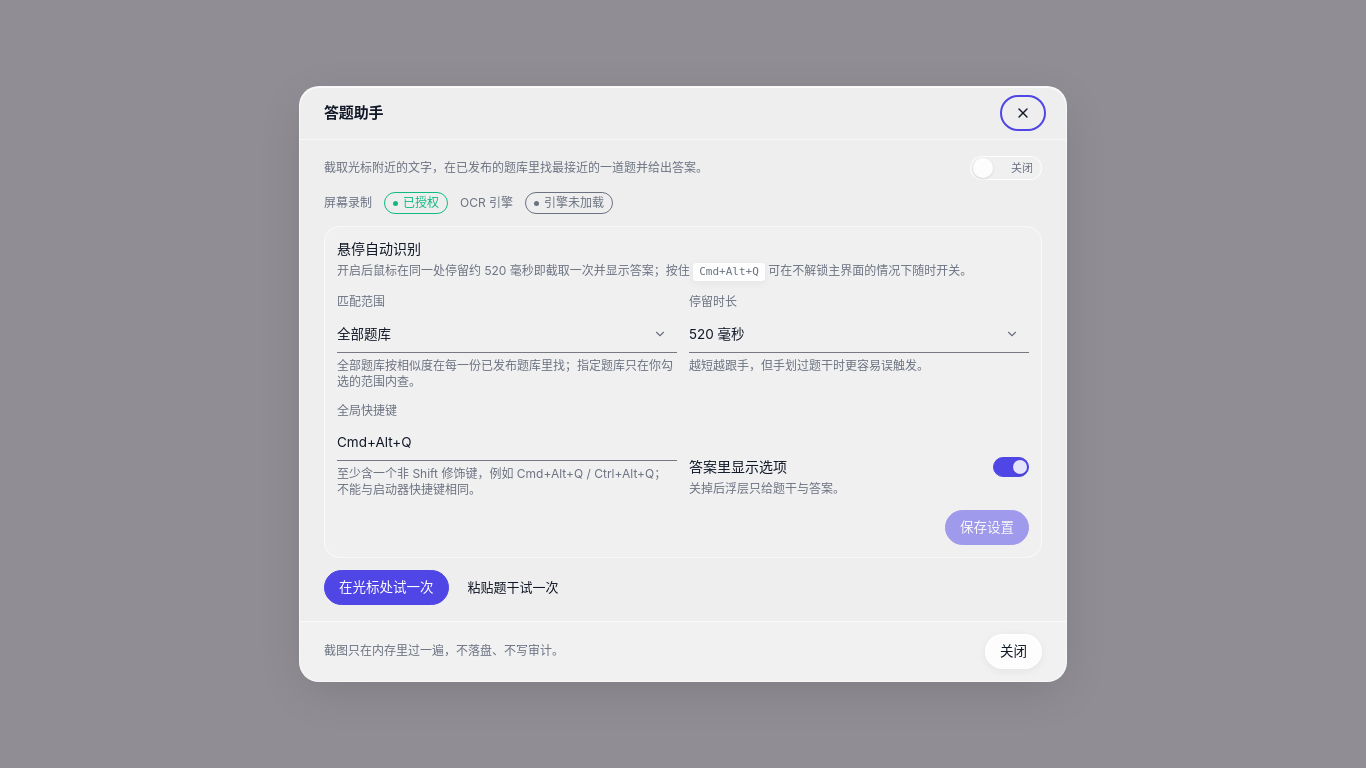
Test case: 答题助手弹窗：启用那颗开关 › 已授权时拨到启用真的去起悬停线程
Expected: the field showing "Cmd+Alt+Q" is shown, [337,425,677,460]
Click the switch named "启用悬停自动识别".
click(1006, 168)  # box [970,156,1042,180]
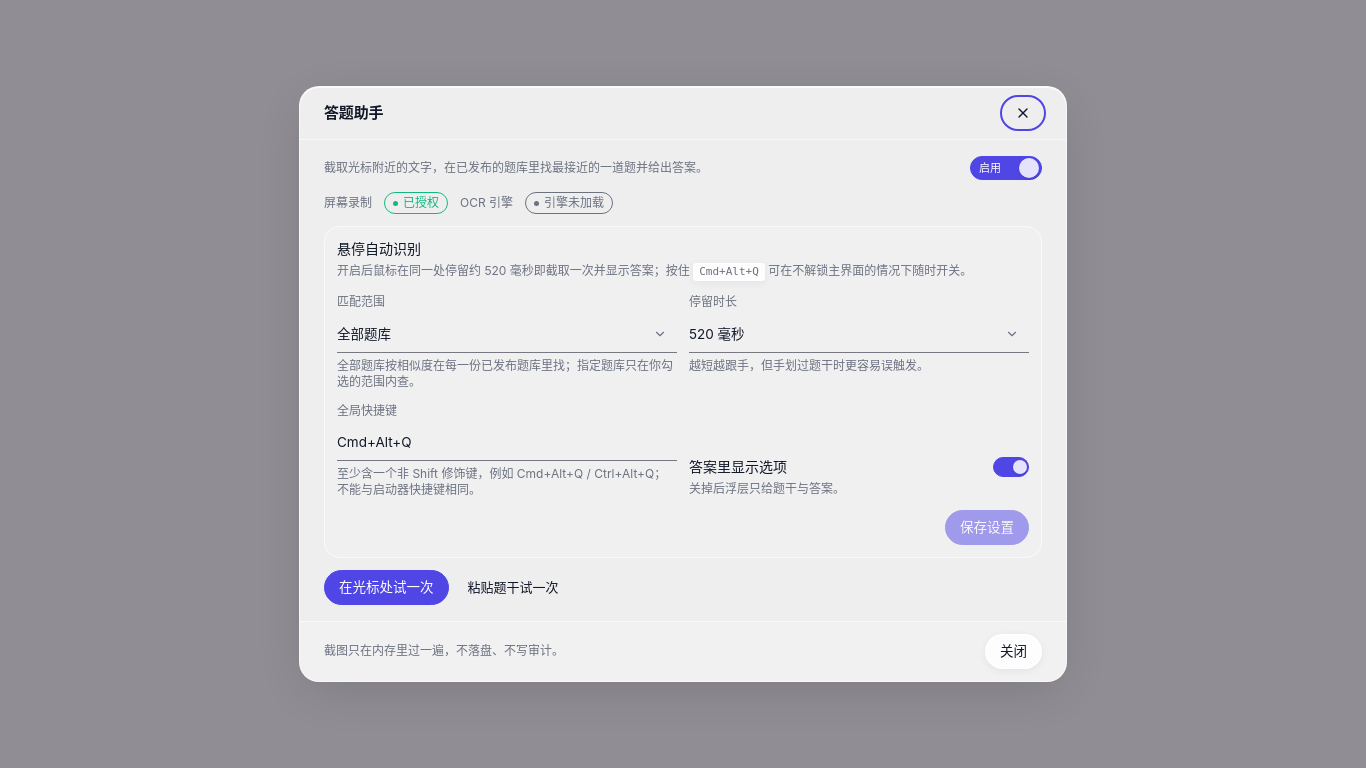
Expected: the switch named "启用悬停自动识别" reads "启用", [970,156,1042,180]
